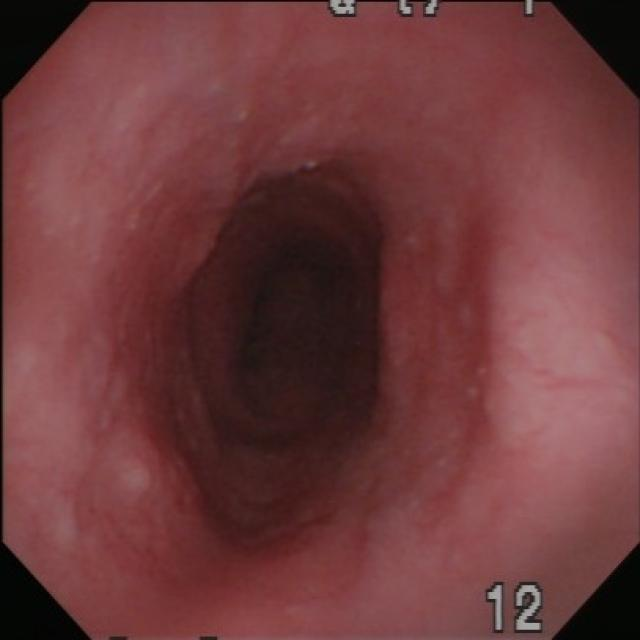E: (180, 155, 385, 461)
S: (485, 581, 547, 636), (325, 3, 545, 18)
